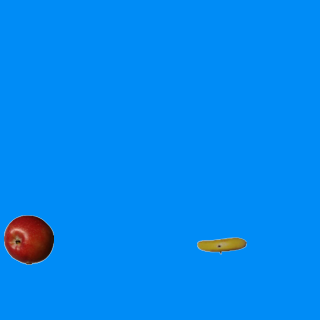Apple Braeburn: (3, 214, 53, 264)
Banana: (196, 220, 246, 270)
